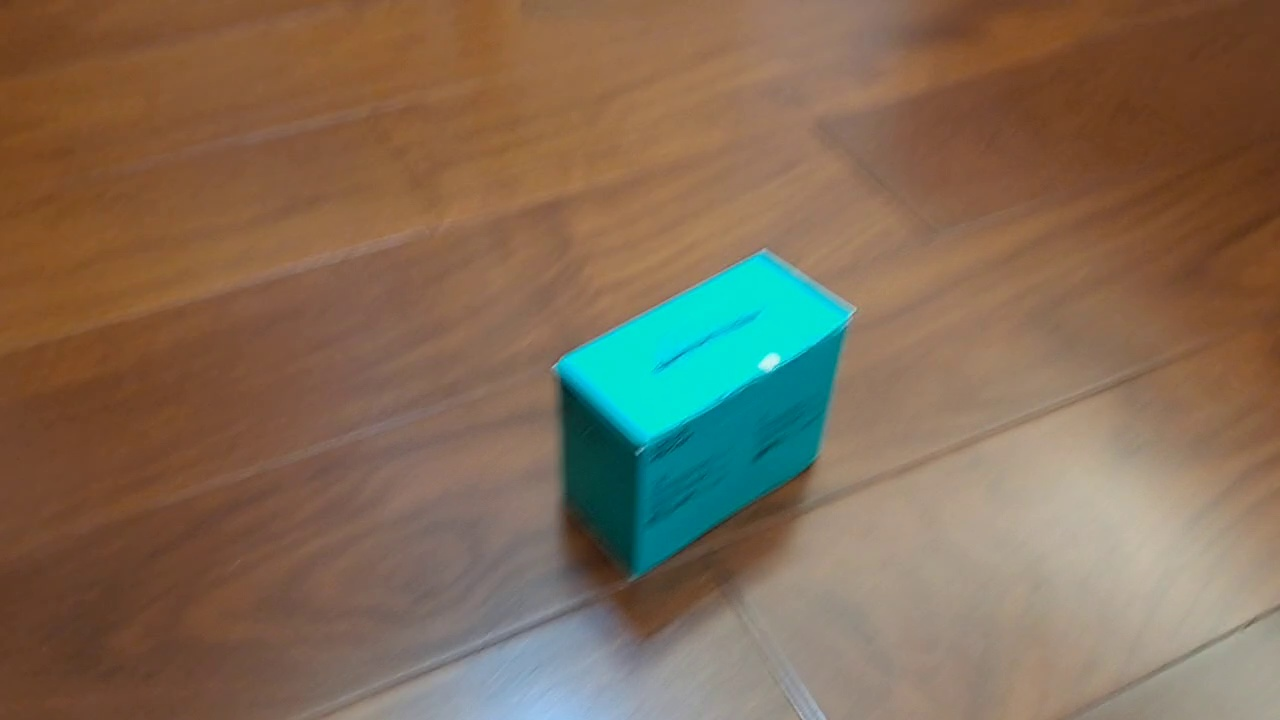webcam: (548, 245, 858, 584)
